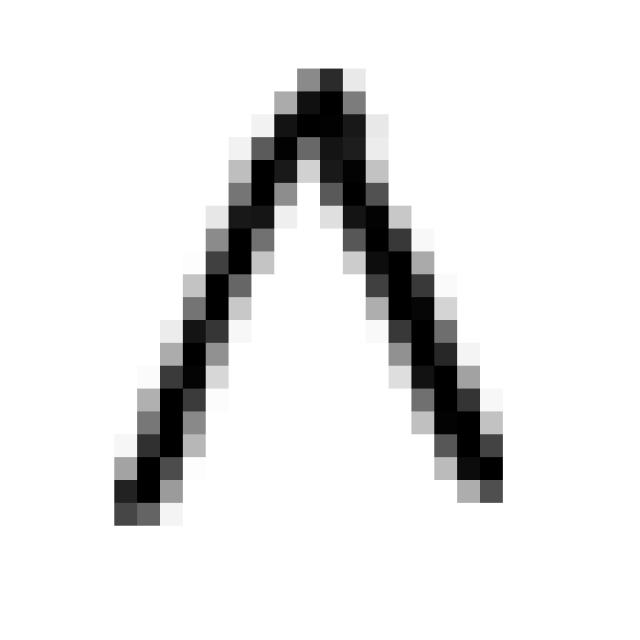8 -eight-: (91, 48, 528, 555)
